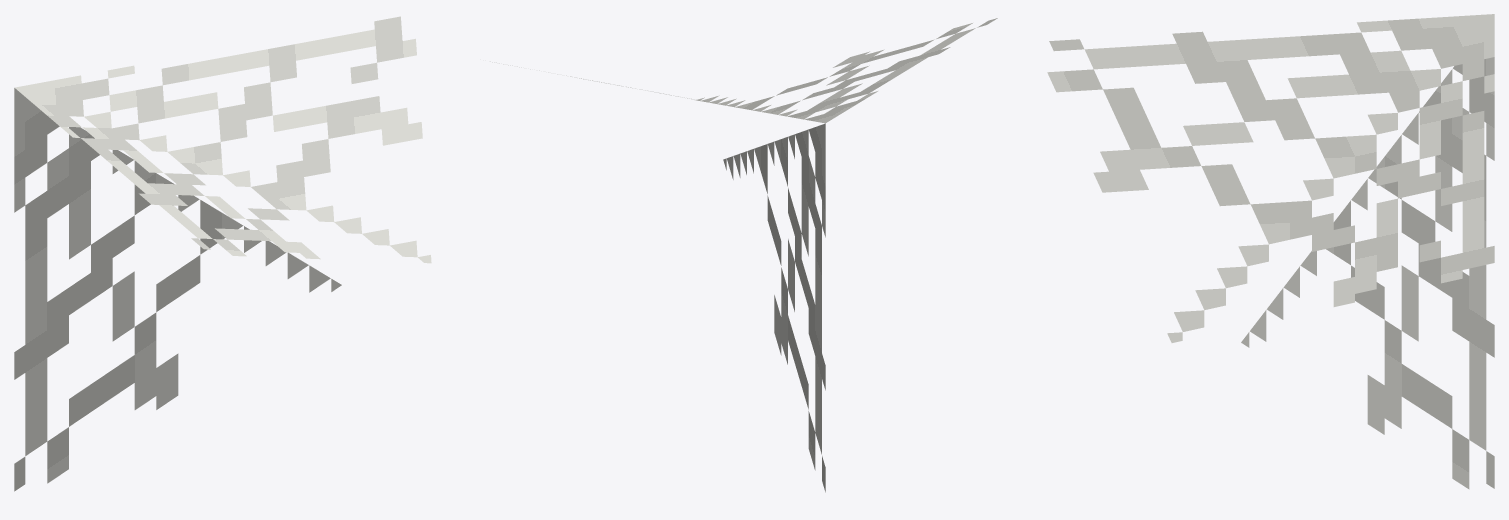
Rendered from cobweb-corner-b.glb.
3 views of the same model, side by side, from view 1: azimuth 30°, elevation 25°; view 2: azimuth 150°, elevation 25°; view 3: azimuth 270°, elevation 25° (orthographic). The views are drawn at different scales.
Visible parts, largest first — view 1: cobweb-corner-b.001; view 2: cobweb-corner-b.001; view 3: cobweb-corner-b.001.
Part boxes in pixels (box(x1,y1,x2,y2)): cobweb-corner-b.001: box(14, 16, 431, 491); cobweb-corner-b.001: box(490, 18, 997, 492); cobweb-corner-b.001: box(1047, 14, 1494, 489).
Bounding box in the file's own units: 0.35 × 0.35 × 0.2975.
Materials: 1 (1 with a texture image).
